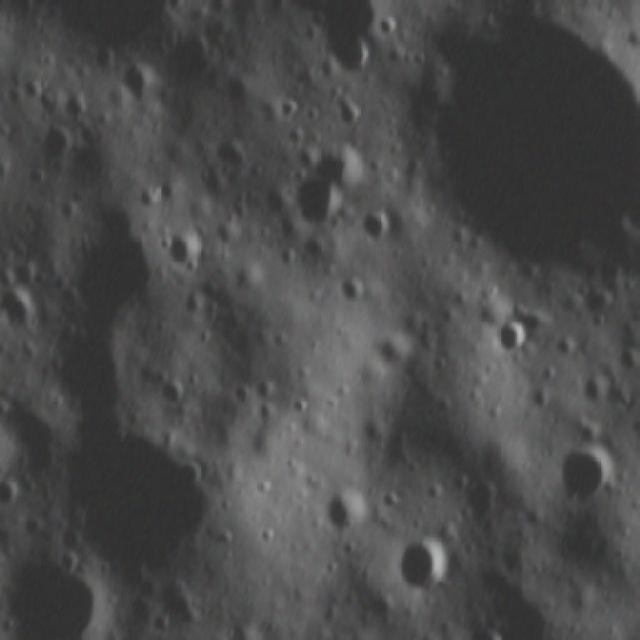crater: (407, 1, 640, 303), (40, 420, 232, 574), (14, 187, 175, 331), (0, 535, 128, 640), (39, 0, 186, 63), (545, 437, 620, 511), (321, 31, 393, 86), (393, 535, 453, 599), (289, 177, 345, 238), (365, 321, 423, 377), (318, 482, 374, 533), (492, 308, 539, 362), (356, 205, 399, 252), (331, 268, 372, 315), (606, 338, 640, 378), (621, 187, 640, 241)
